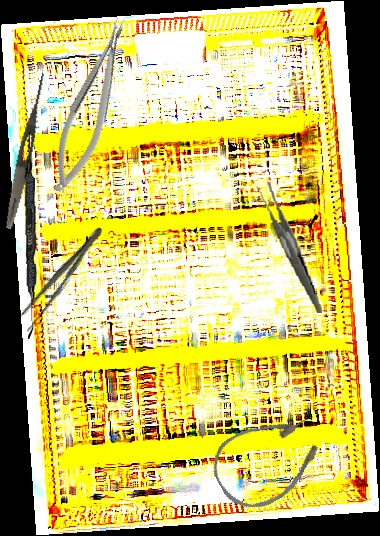Cannula: (202, 400, 336, 521)
Dressing Forceps: (14, 221, 109, 335), (255, 178, 324, 318), (2, 71, 49, 231)
Needle Holder: (39, 12, 145, 199)
Spatula Surgical: (20, 131, 41, 339)
